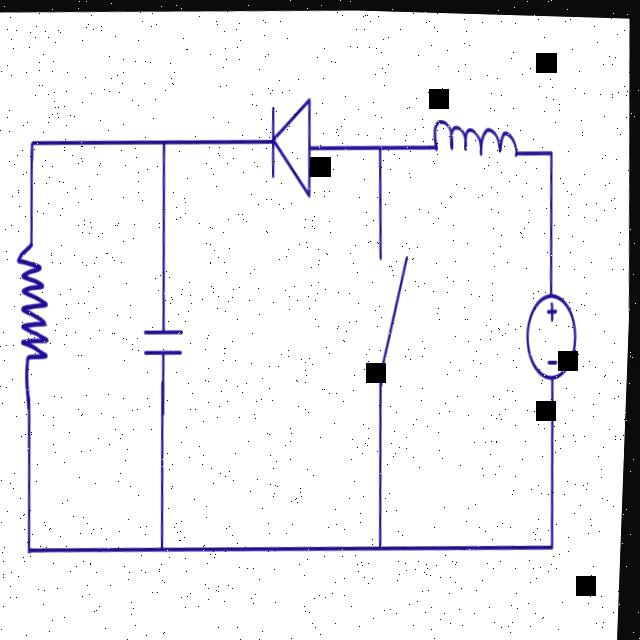capacitor: (138, 281, 196, 382)
diode: (242, 66, 339, 229)
inductor: (415, 100, 532, 182)
resistor: (0, 210, 73, 386)
source: (519, 271, 585, 396)
switch: (347, 212, 429, 414)
